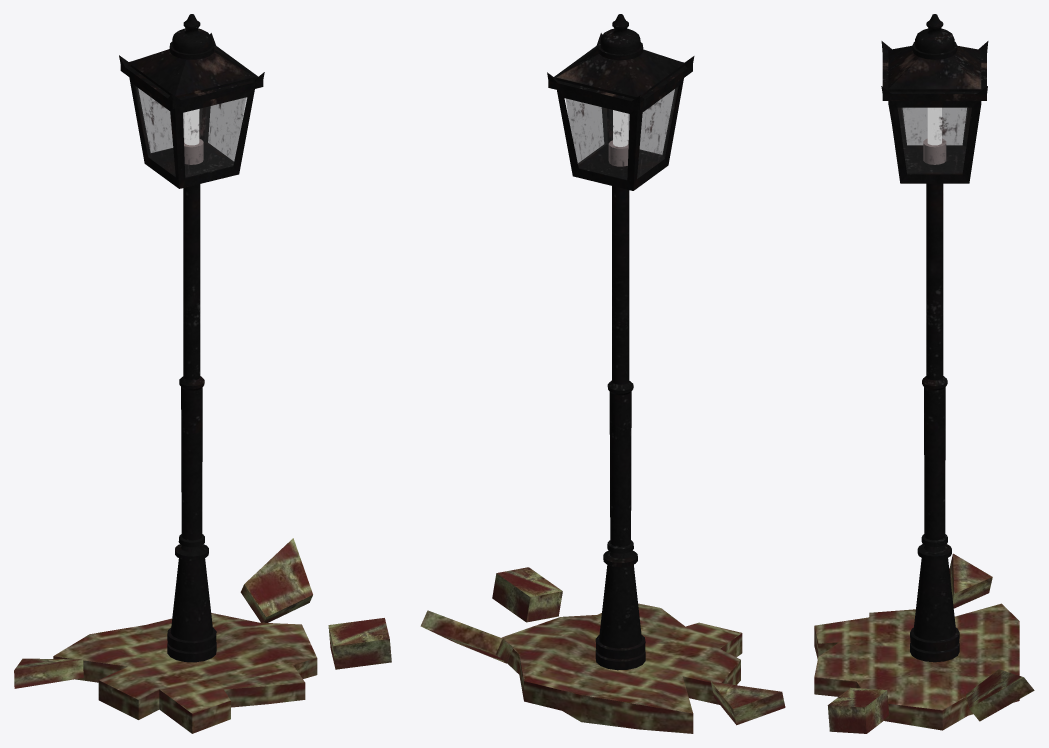
Rendered from lamppost_scene.gltf.
3 views of the same model, side by side, from view 1: azimuth 30°, elevation 25°; view 2: azimuth 150°, elevation 25°; view 3: azimuth 270°, elevation 25° (orthographic).
Parts seen in each view (by area): view 1: pCube9; view 2: pCube9; view 3: pCube9.
Boxes of the visible parts, x1,y1,x2,y2 form: pCube9: (14,14,391,733); pCube9: (420,14,785,733); pCube9: (814,14,1034,733).
Bounding box in the file's own units: 1.44 × 2.78 × 0.8316.
Materials: 1 (1 with a texture image).
